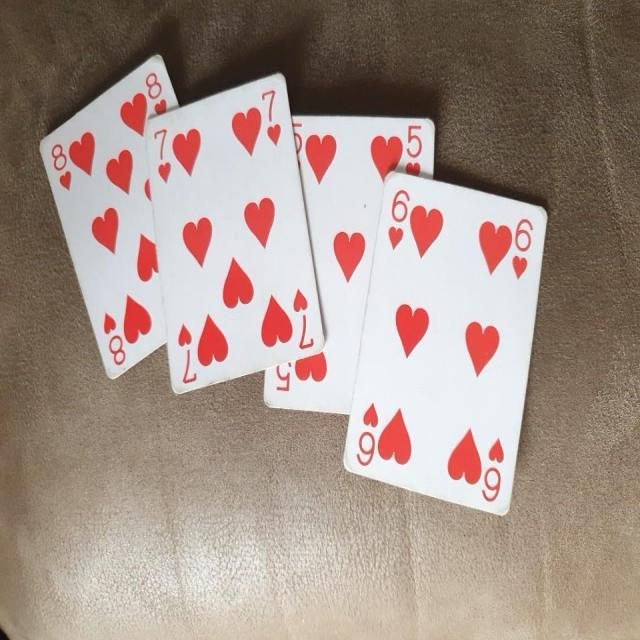5 of hearts: (258, 108, 446, 420)
6 of hearts: (340, 175, 550, 525)
7 of hearts: (140, 70, 322, 397)
8 of hearts: (31, 38, 184, 388)
